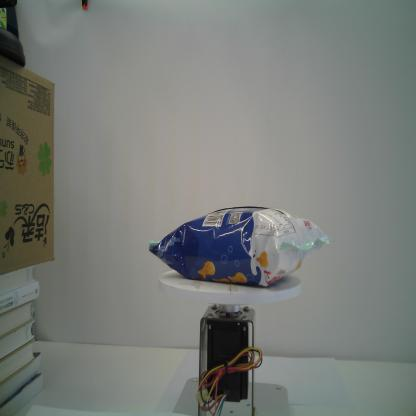Puffed Food: (148, 204, 332, 290)
